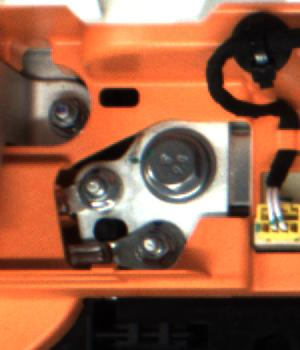nut_b: (139, 118, 221, 207)
